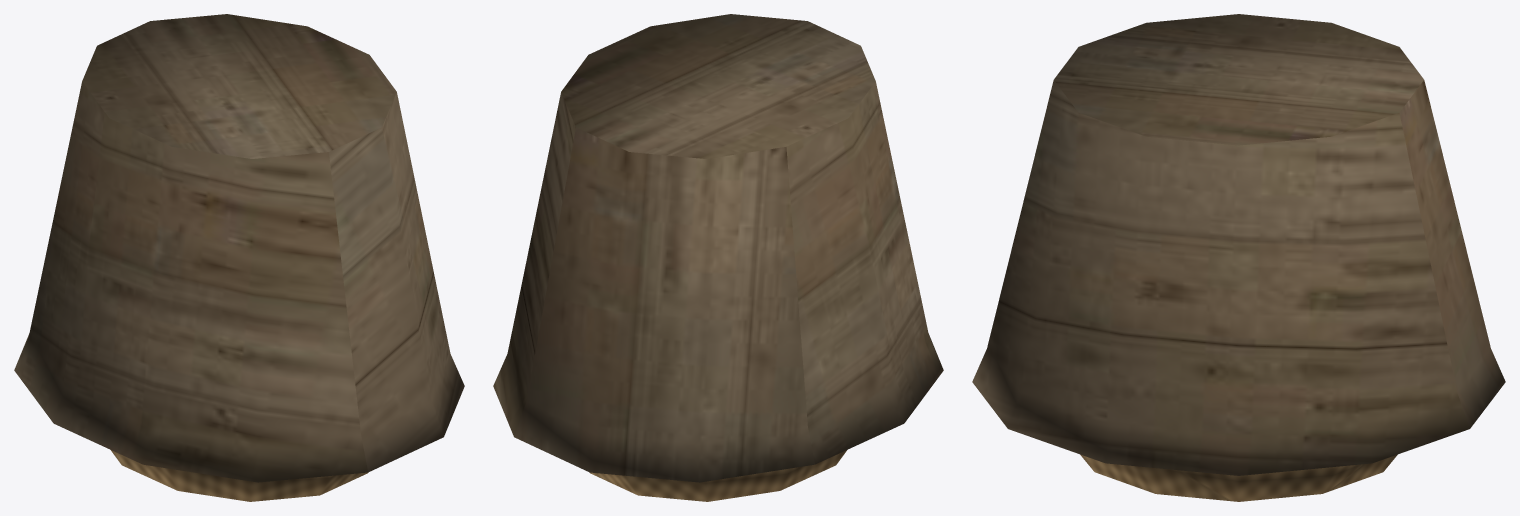
File: cesta_mano.glb
The picture shows the model from 3 angles, left to right: view 1: azimuth 30°, elevation 25°; view 2: azimuth 150°, elevation 25°; view 3: azimuth 270°, elevation 25°; orthographic projection. The views are drawn at different scales.
Parts seen in each view (by area): view 1: cesta_mano; view 2: cesta_mano; view 3: cesta_mano.
Part boxes in pixels (bbox=[...]): cesta_mano: bbox=[14, 14, 464, 501]; cesta_mano: bbox=[493, 14, 943, 501]; cesta_mano: bbox=[972, 14, 1505, 501].
Bounding box in the file's own units: 0.12 × 0.108 × 0.144.
Materials: 2 (2 with a texture image).
